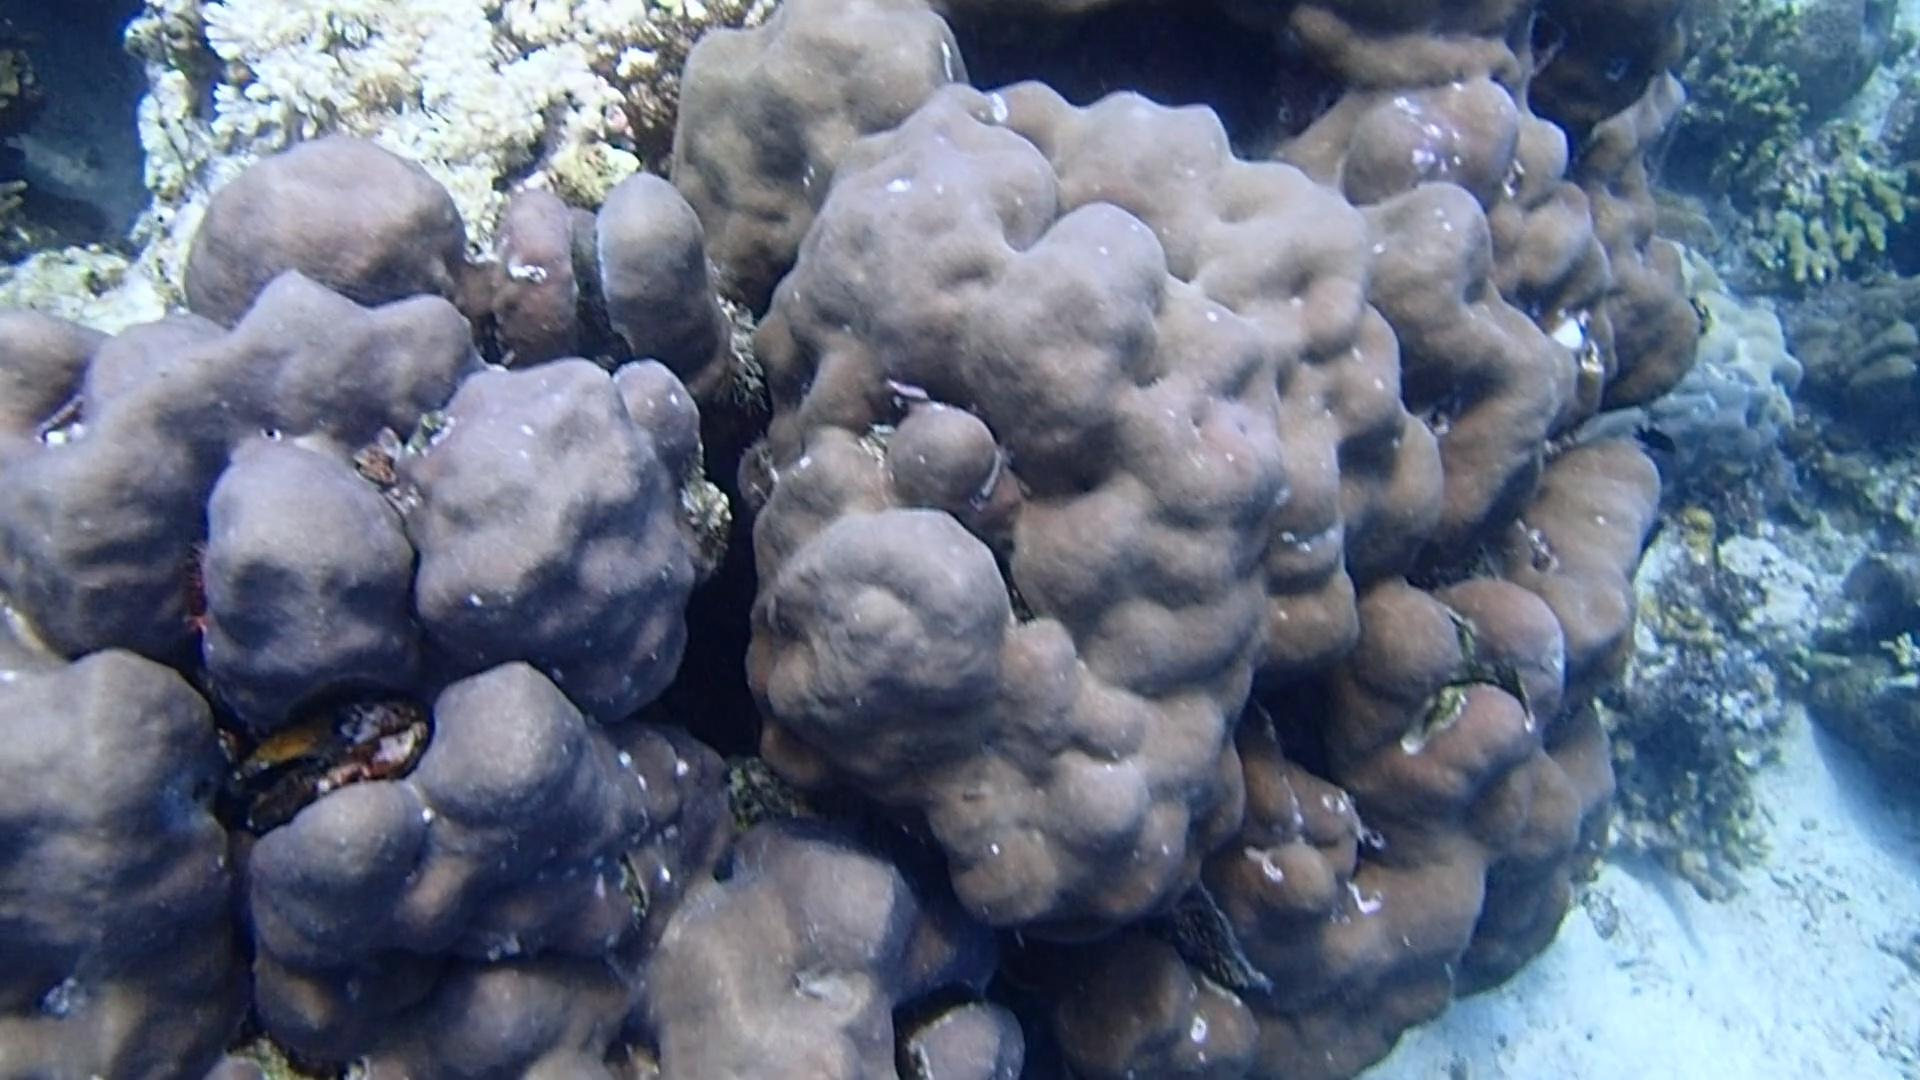Dark Fish: (1629, 417, 1681, 465)
